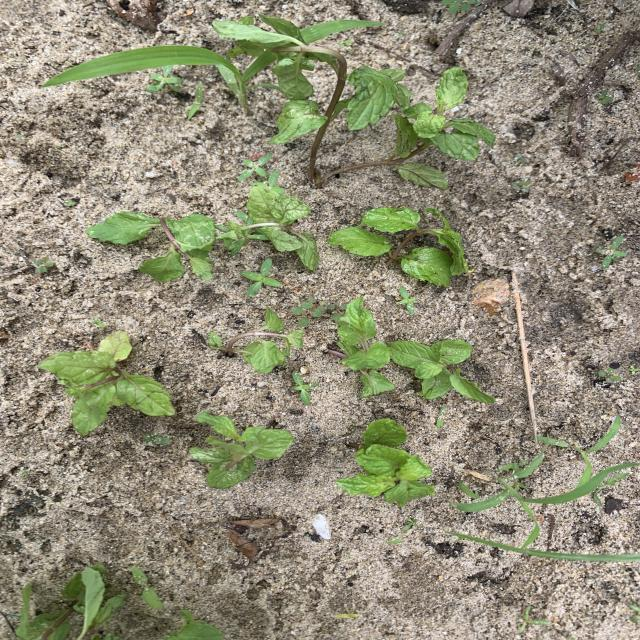crop: (214, 16, 495, 189), (39, 332, 175, 434), (328, 207, 471, 286), (87, 212, 214, 281), (215, 184, 316, 270), (337, 418, 433, 506), (16, 566, 126, 639), (189, 414, 292, 487), (391, 340, 495, 403), (208, 306, 303, 371), (330, 314, 394, 397), (166, 610, 222, 639)
weed: (43, 46, 280, 107), (572, 417, 619, 487), (301, 20, 382, 42), (242, 259, 280, 295), (503, 450, 544, 483), (132, 567, 162, 607), (595, 236, 627, 267), (449, 481, 478, 511), (147, 66, 181, 91), (239, 154, 271, 179), (518, 605, 547, 632), (291, 299, 328, 318), (293, 373, 315, 403), (188, 81, 201, 118), (398, 288, 415, 313), (598, 366, 622, 383), (441, 1, 478, 12), (34, 256, 54, 272), (143, 434, 171, 444), (512, 180, 530, 191), (598, 90, 613, 103), (402, 518, 417, 530), (334, 611, 359, 618), (630, 604, 639, 623), (437, 405, 444, 428), (387, 534, 403, 543), (338, 40, 351, 50), (93, 318, 104, 327), (628, 366, 639, 374), (66, 199, 75, 206)
